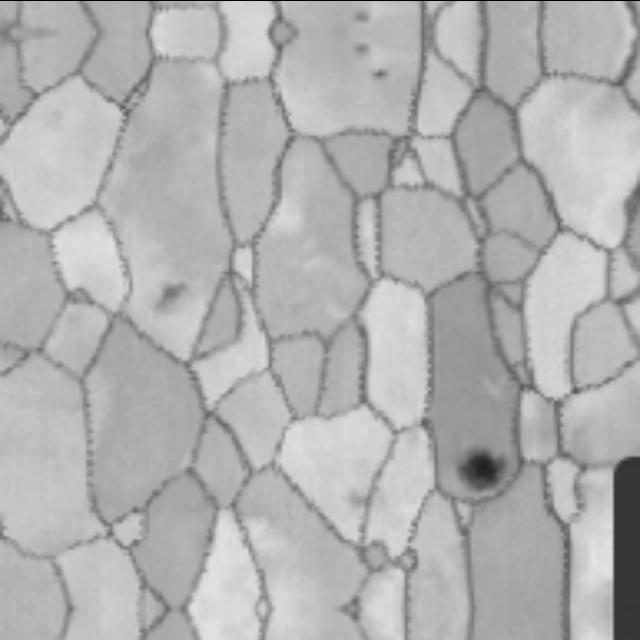good_void: (453, 436, 513, 490), (151, 278, 186, 319), (343, 489, 366, 514), (368, 65, 391, 79), (351, 40, 371, 54), (351, 8, 371, 22)
